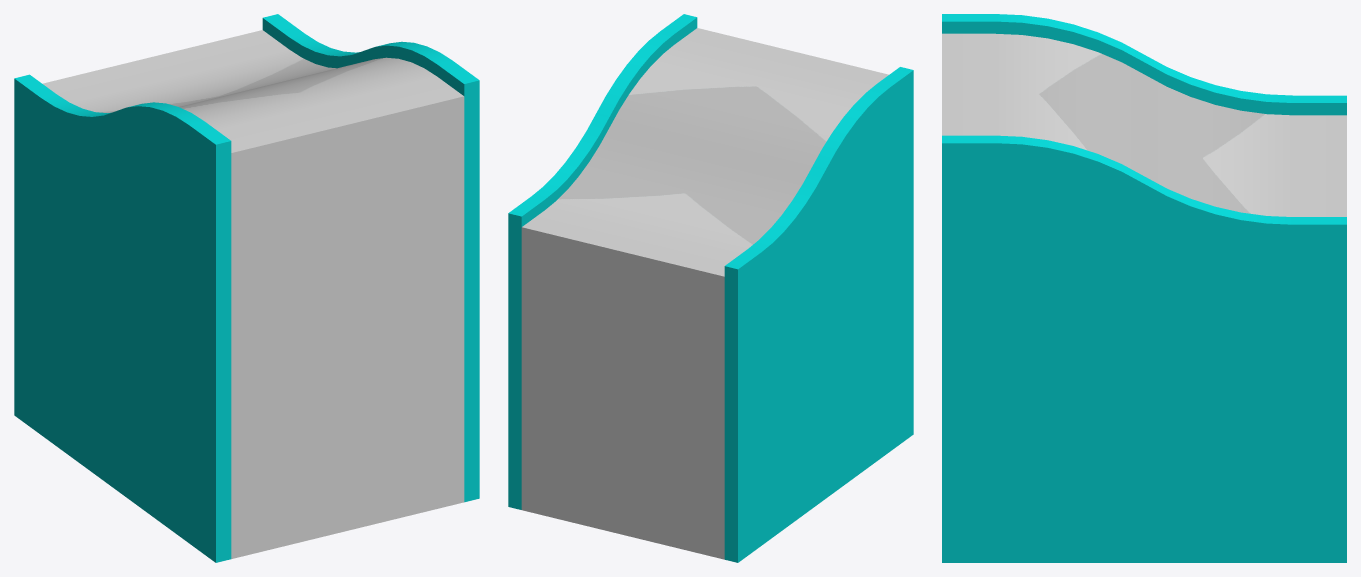
File: TopBorromCurve.fbx
3 renders of one model, left to right at view 1: azimuth 30°, elevation 25°; view 2: azimuth 150°, elevation 25°; view 3: azimuth 270°, elevation 25°, orthographic. The views are drawn at different scales.
Visible parts, largest first — view 1: polySurface16; view 2: polySurface16; view 3: polySurface16.
Part boxes in pixels (x1=…): polySurface16: x1=14, y1=14, x2=479, y2=562; polySurface16: x1=508, y1=14, x2=913, y2=562; polySurface16: x1=942, y1=14, x2=1346, y2=562.
Size of the model in its own units: 34 by 51.5 by 45.
Materials: 3 (1 with a texture image).
